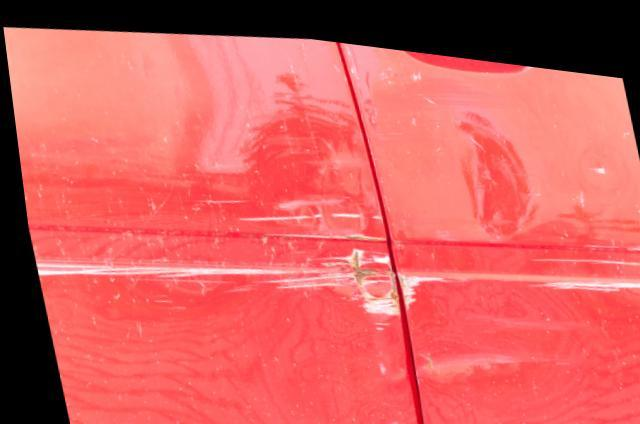dent: (454, 99, 533, 230)
scratch: (28, 183, 399, 313), (391, 223, 640, 299)
